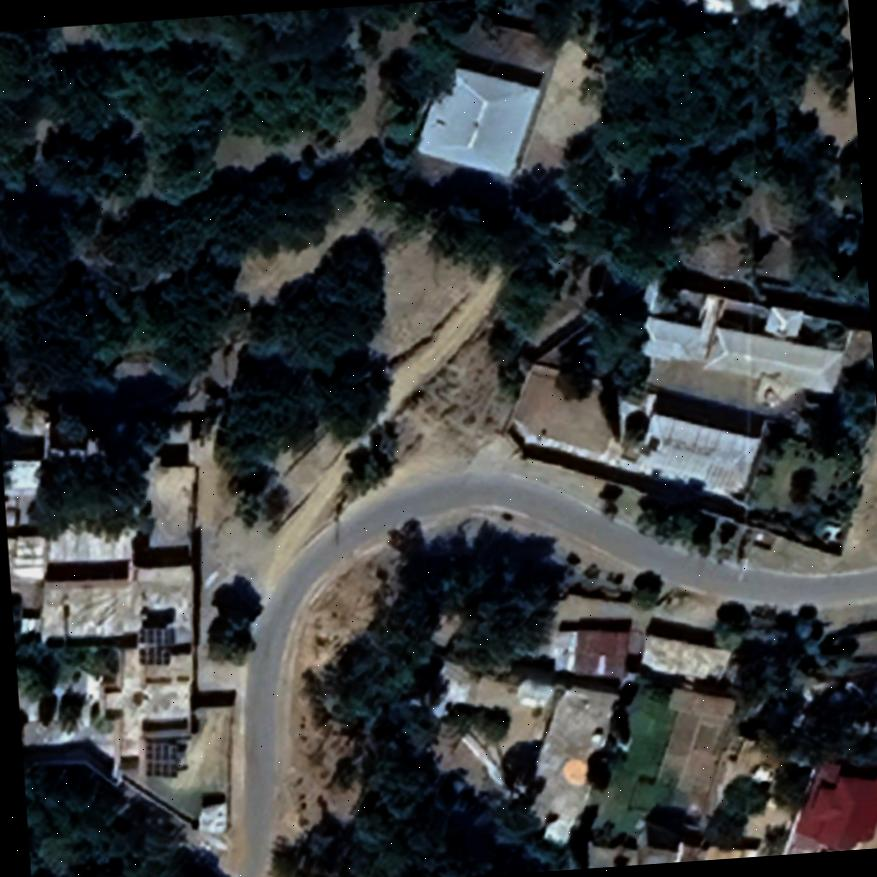Solarpanel: (143, 740, 178, 777), (138, 624, 170, 646), (138, 646, 167, 666)
